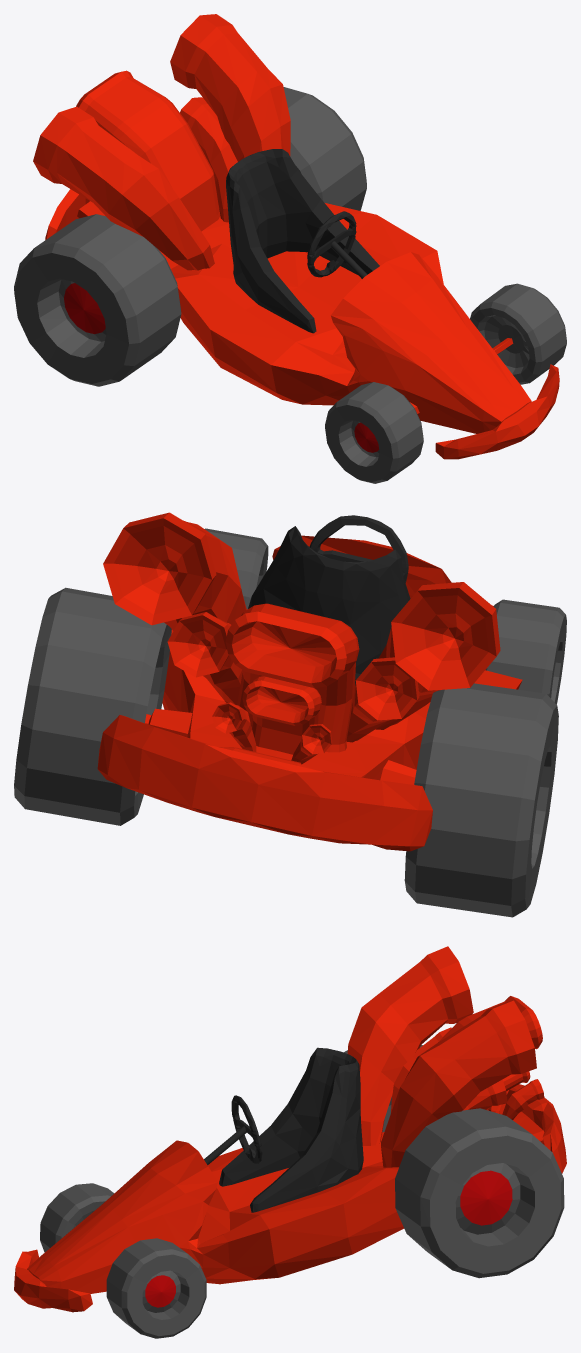
Rendered from GM_kart.glb.
3 renders of one model, top to bottom at view 1: azimuth 30°, elevation 25°; view 2: azimuth 150°, elevation 25°; view 3: azimuth 270°, elevation 25°, orthographic. The views are drawn at different scales.
Parts seen in each view (by area): view 1: body_kart01.001, wheel01_FL.008, wheel01_FL.007, wheel01_FL.009, wheel01_FL.003; view 2: body_kart01.001, wheel01_FL.008, wheel01_FL.009, wheel01_FL.007, wheel01_FL.003; view 3: body_kart01.001, wheel01_FL.009, wheel01_FL.003, wheel01_FL.007.
Part boxes in pixels (x1=…): body_kart01.001: x1=33, y1=14, x2=559, y2=459; wheel01_FL.008: x1=14, y1=214, x2=181, y2=386; wheel01_FL.007: x1=325, y1=382, x2=423, y2=483; wheel01_FL.009: x1=283, y1=87, x2=366, y2=210; wheel01_FL.003: x1=470, y1=283, x2=566, y2=384; body_kart01.001: x1=97, y1=512, x2=522, y2=851; wheel01_FL.008: x1=404, y1=683, x2=558, y2=917; wheel01_FL.009: x1=14, y1=587, x2=171, y2=825; wheel01_FL.007: x1=485, y1=599, x2=566, y2=704; wheel01_FL.003: x1=205, y1=528, x2=268, y2=609; body_kart01.001: x1=14, y1=946, x2=566, y2=1312; wheel01_FL.009: x1=395, y1=1108, x2=564, y2=1278; wheel01_FL.003: x1=106, y1=1238, x2=206, y2=1338; wheel01_FL.007: x1=40, y1=1183, x2=113, y2=1252.
Bounding box in the file's own units: 0.5951 × 0.4277 × 0.7262.
